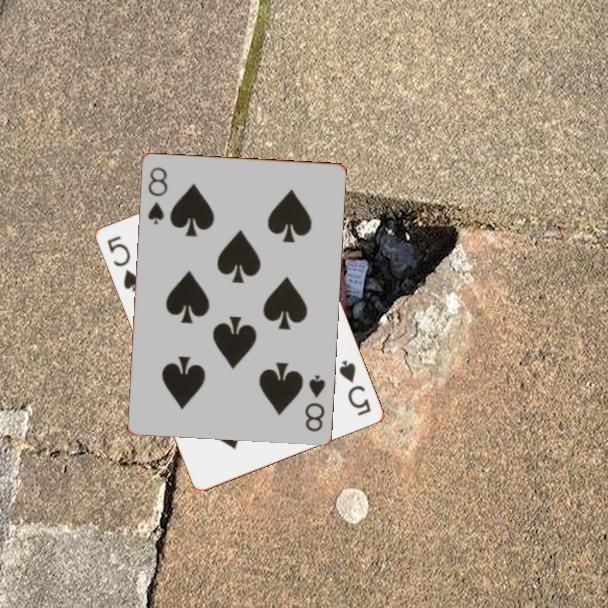s05: (103, 232, 142, 295), (335, 356, 373, 418)
s08: (301, 371, 328, 434), (144, 163, 170, 227)
